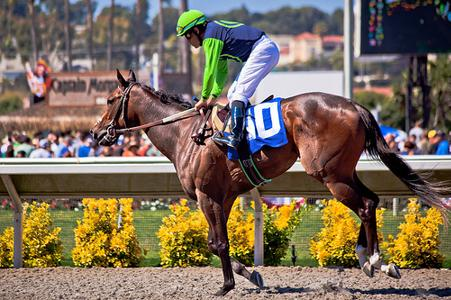person: (174, 8, 281, 149)
